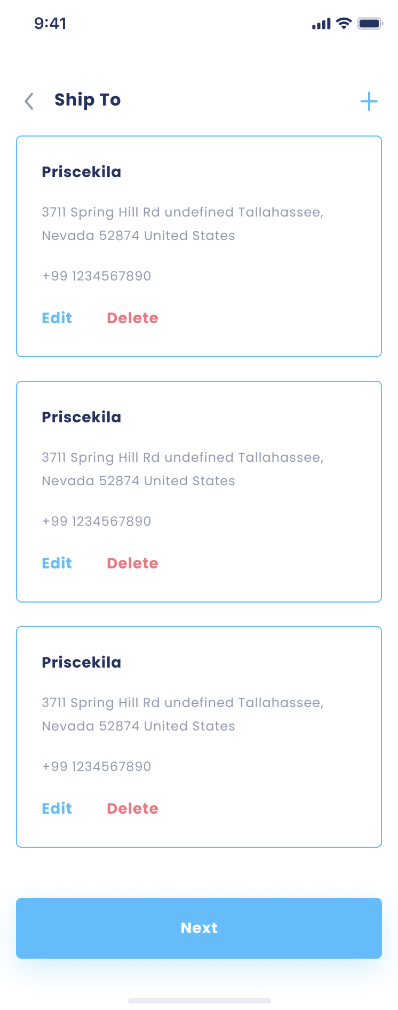Button: (14, 895, 383, 961)
